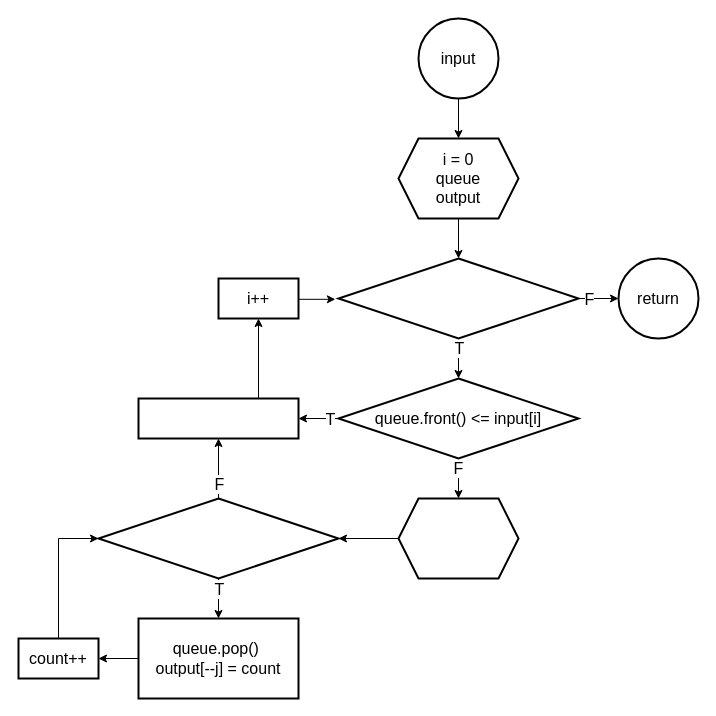
Image size: 716x716. Some labels were removed from this diagram. The shapes that lost their labels are listed below. From the top down, each one's box as (x1, y1, x2, y2) in pixels, then its label:
(337, 257, 579, 339): input.size() < i
(137, 397, 299, 439): queue.push(input[i])
(97, 497, 339, 579): queue.front() > input[i]
(397, 497, 519, 579): count = 1 j = i
